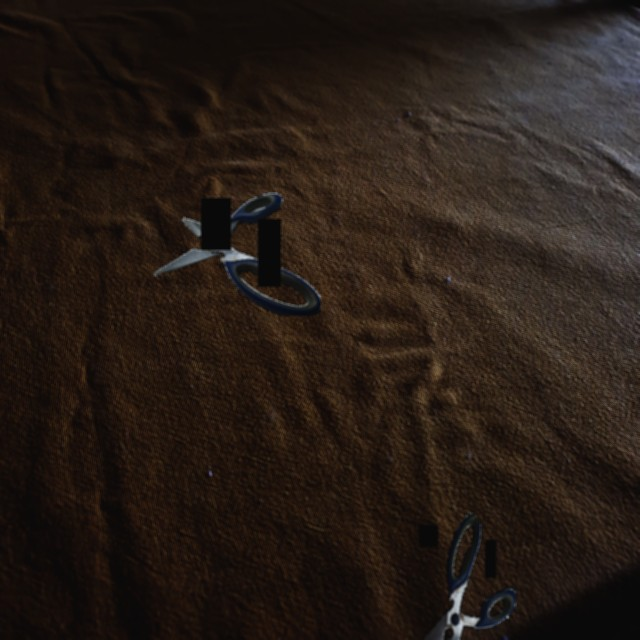scissors: (154, 192, 321, 316), (413, 512, 516, 640)
